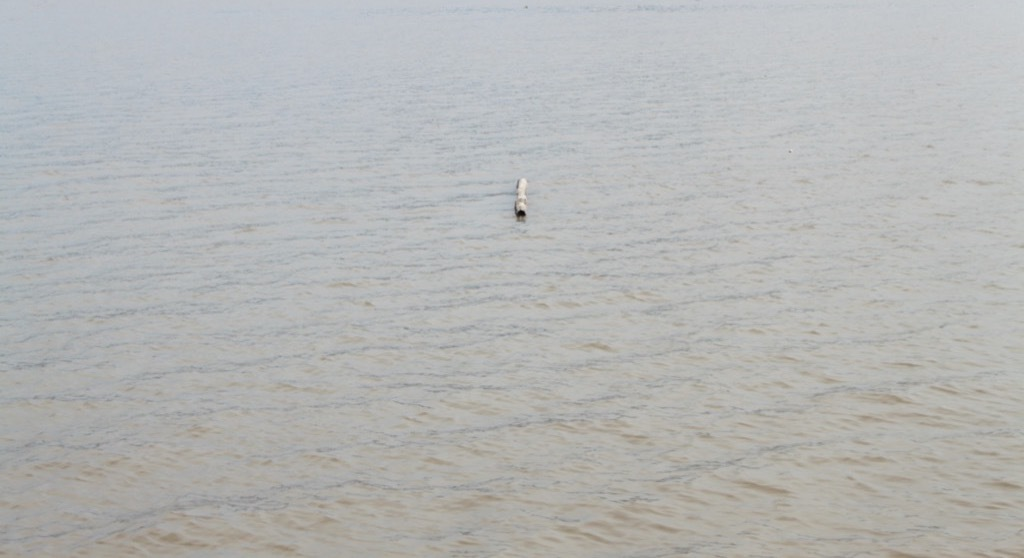organic: (505, 172, 536, 229), (520, 2, 533, 13)
